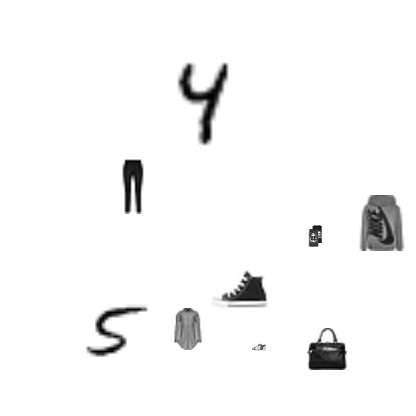4: (147, 40, 259, 152)
5: (69, 287, 153, 371)
Bag: (306, 328, 348, 370)
Pullover: (354, 195, 410, 251)
Sandal: (189, 51, 203, 65), (252, 340, 266, 354)
Shirt: (167, 308, 209, 350)
Sneaker: (212, 261, 268, 317)
T-shirt/top: (304, 225, 326, 247)
Trouser: (105, 158, 161, 214)
